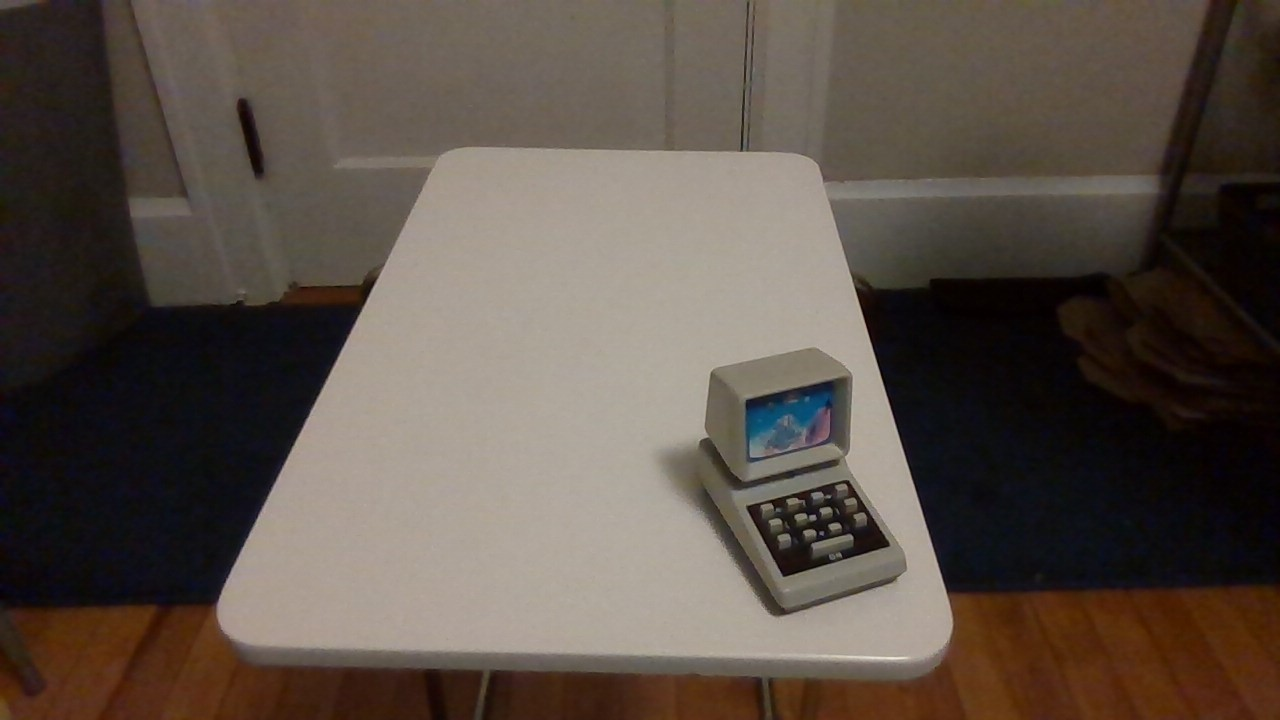Toy: (631, 312, 965, 632)
